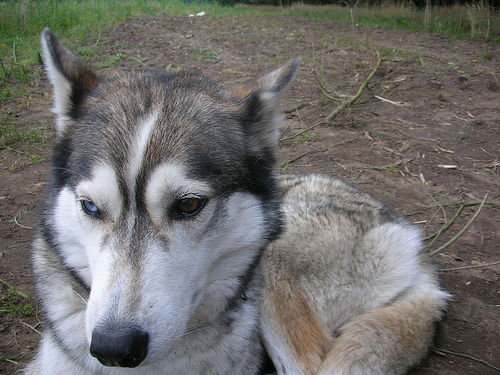dog: (24, 25, 448, 374)
